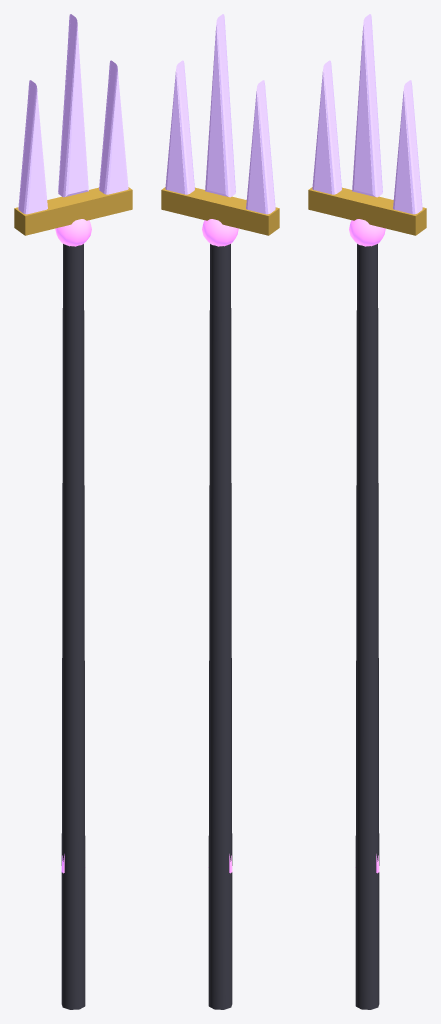
File: spear_f2_60fdac54.glb
3 renders of one model, left to right at view 1: azimuth 30°, elevation 25°; view 2: azimuth 150°, elevation 25°; view 3: azimuth 330°, elevation 25°, orthographic.
Parts seen in each view (by area): view 1: m0_ow80_, m6_ow80_, m4_ow80_, m5_gm160_; view 2: m0_ow80_, m6_ow80_, m4_ow80_, m5_gm160_; view 3: m0_ow80_, m6_ow80_, m4_ow80_, m5_gm160_.
Part boxes in pixels (<box>): m0_ow80_: <box>61,244,85,1009</box>; m6_ow80_: <box>18,14,128,214</box>; m4_ow80_: <box>14,187,132,235</box>; m5_gm160_: <box>55,219,91,246</box>; m0_ow80_: <box>208,244,232,1009</box>; m6_ow80_: <box>165,14,275,214</box>; m4_ow80_: <box>161,187,279,235</box>; m5_gm160_: <box>202,219,238,246</box>; m0_ow80_: <box>355,244,379,1009</box>; m6_ow80_: <box>312,14,422,214</box>; m4_ow80_: <box>308,187,426,235</box>; m5_gm160_: <box>349,219,385,246</box>.
Bounding box in the file's own units: 0.4 × 3.52 × 0.1141.
